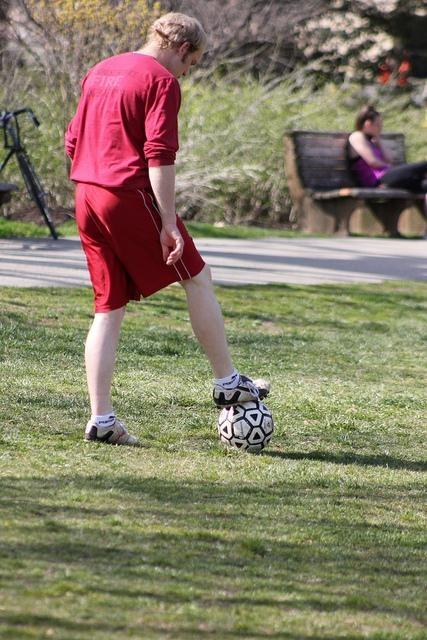bicycle: (0, 108, 57, 240)
